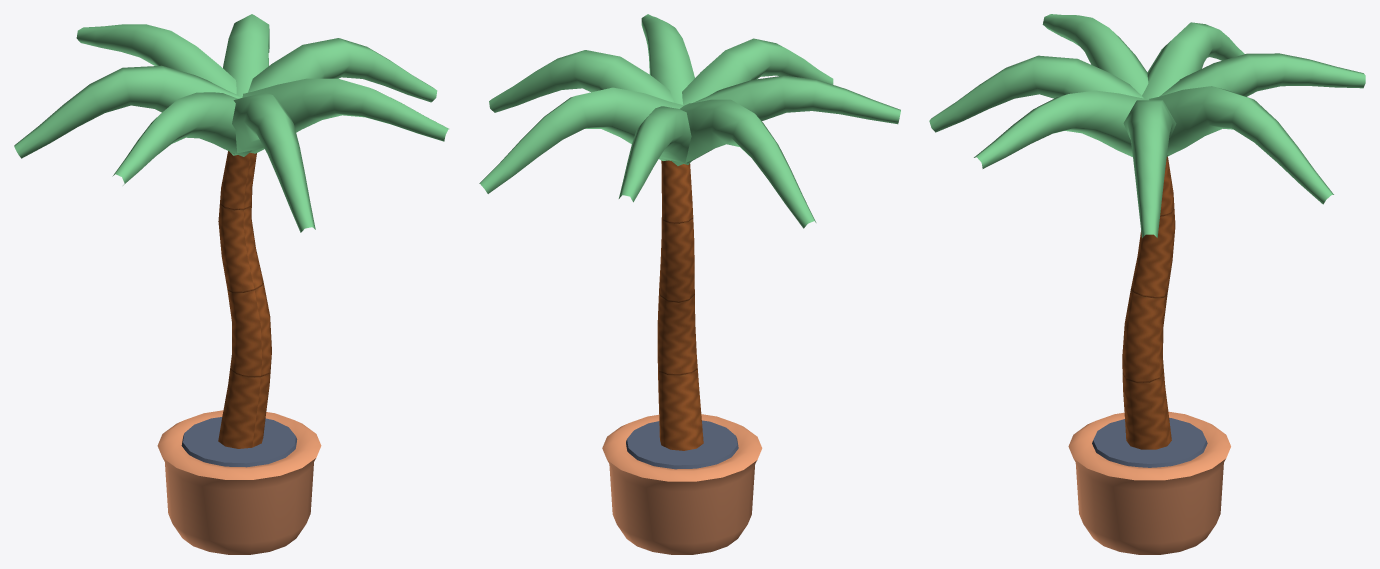
Rendered from hero-shooter-harbour-payload-potted-palm-5555e7f6__27709.glb.
3 renders of one model, left to right at view 1: azimuth 30°, elevation 25°; view 2: azimuth 150°, elevation 25°; view 3: azimuth 270°, elevation 25°, orthographic. The views are drawn at different scales.
Parts seen in each view (by area): view 1: potted-palm; view 2: potted-palm; view 3: potted-palm.
Boxes of the visible parts, x1,y1,x2,y2 form: potted-palm: [14, 14, 448, 554]; potted-palm: [479, 14, 900, 554]; potted-palm: [929, 14, 1365, 554].
Bounding box in the file's own units: 2.44 × 2.89 × 2.47.
4 materials, 1 textured.
